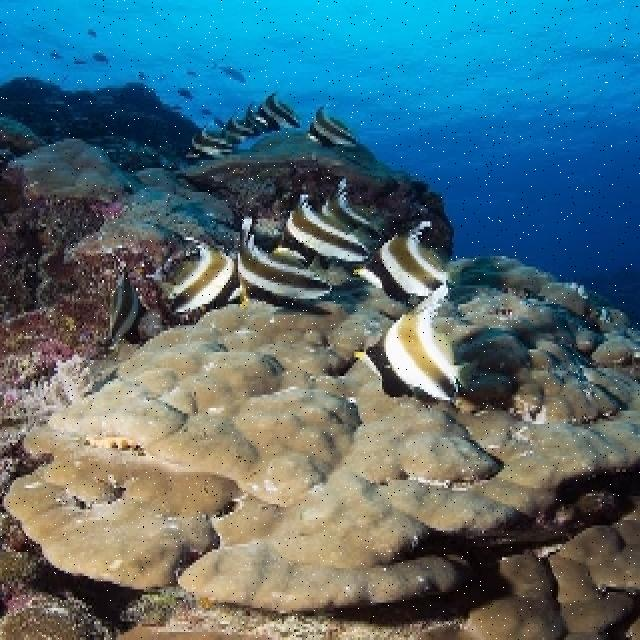fish: (384, 278, 460, 400), (228, 217, 333, 302), (377, 220, 453, 297), (284, 194, 369, 262), (308, 99, 359, 149)
reefs: (385, 279, 475, 400)
sea-floor: (0, 77, 638, 637)
